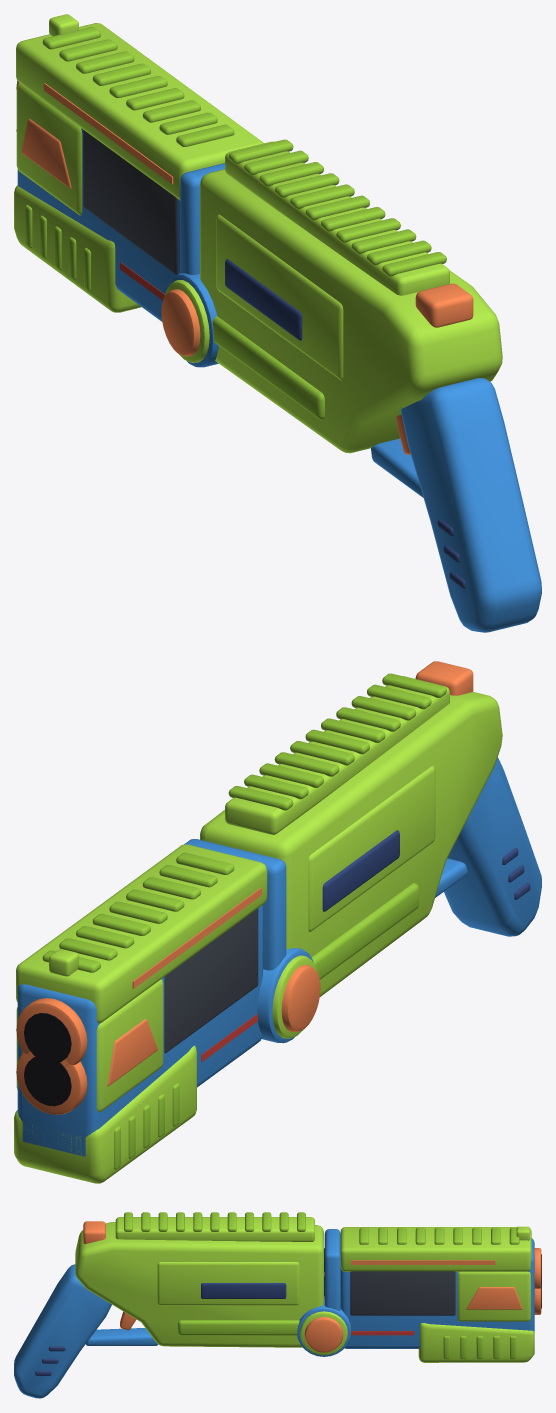
The model's file is blaster.glb.
3 renders of one model, top to bottom at view 1: azimuth 30°, elevation 25°; view 2: azimuth 150°, elevation 25°; view 3: azimuth 270°, elevation 25°, orthographic. The views are drawn at different scales.
Visible parts, largest first — view 1: Receiver, Grip, FrontTop, ReceiverPanel, Window, ReceiverRail, Slide, BarrelCore, FrontBracket, ReceiverRib, Label, BarrelRear (+26 smaller); view 2: Receiver, FrontTop, BarrelCore, Grip, ReceiverPanel, Slide, Window, ReceiverRail, FrontBracket, BarrelRear, ReceiverRib, Label (+31 smaller); view 3: Receiver, FrontTop, Grip, ReceiverPanel, Window, BarrelCore, Slide, ReceiverRail, FrontBracket, ReceiverRib, Label, BarrelRear (+9 smaller).
Part boxes in pixels (x1,y1,x2,y2): Receiver: (200,169,502,453); Grip: (400,378,541,632); FrontTop: (16,23,263,200); ReceiverPanel: (216,214,343,380); Window: (83,130,177,274); ReceiverRail: (225,141,449,295); Slide: (14,185,141,312); BarrelCore: (17,81,180,321); FrontBracket: (16,82,82,215); ReceiverRib: (212,316,324,419); Label: (225,259,302,340); BarrelRear: (180,163,224,274); Receiver: (200,678,502,996); FrontTop: (16,844,267,1023); BarrelCore: (17,905,262,1156); Grip: (444,757,541,936); ReceiverPanel: (308,766,435,931); Slide: (14,1045,196,1183); Window: (164,908,258,1053); ReceiverRail: (225,676,449,834); FrontBracket: (16,979,163,1111); BarrelRear: (184,839,286,970); ReceiverRib: (311,883,418,979); Label: (322,830,399,911); Receiver: (75,1222,323,1347); FrontTop: (340,1227,531,1271); Grip: (14,1264,111,1398); ReceiverPanel: (157,1262,299,1305); Window: (350,1271,455,1315); BarrelCore: (340,1238,534,1348); Slide: (418,1323,534,1362); ReceiverRail: (115,1217,314,1241); FrontBracket: (457,1271,530,1321); ReceiverRib: (178,1320,299,1335); Label: (201,1283,286,1298); BarrelRear: (324,1229,340,1310).
Bounding box in the file's own units: 0.074 × 0.1674 × 0.4634.
